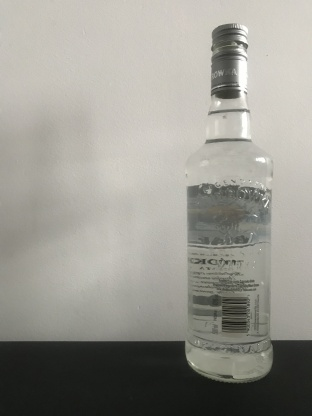nakretka: (209, 22, 249, 98)
